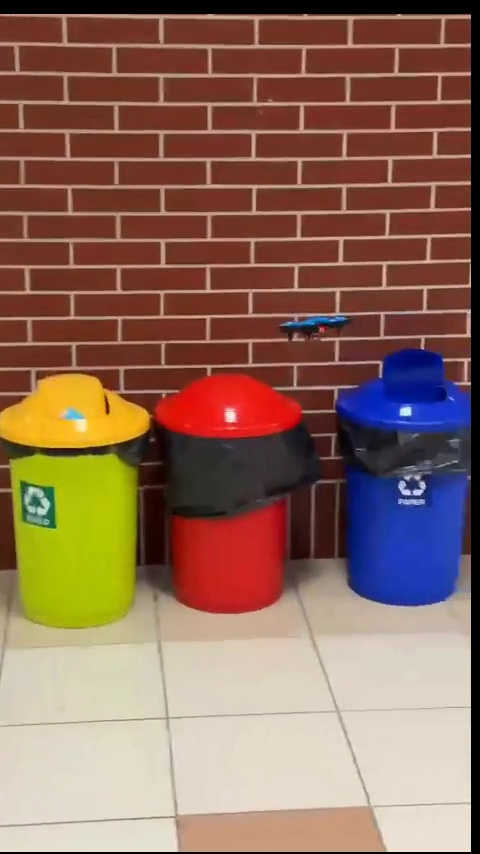drone: (286, 314, 348, 338)
